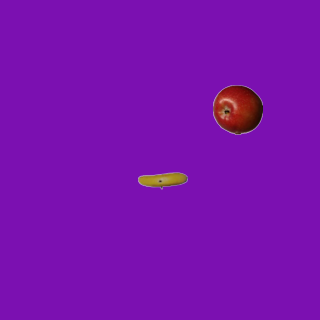Apple Braeburn: (212, 84, 262, 134)
Banana: (137, 155, 187, 205)
